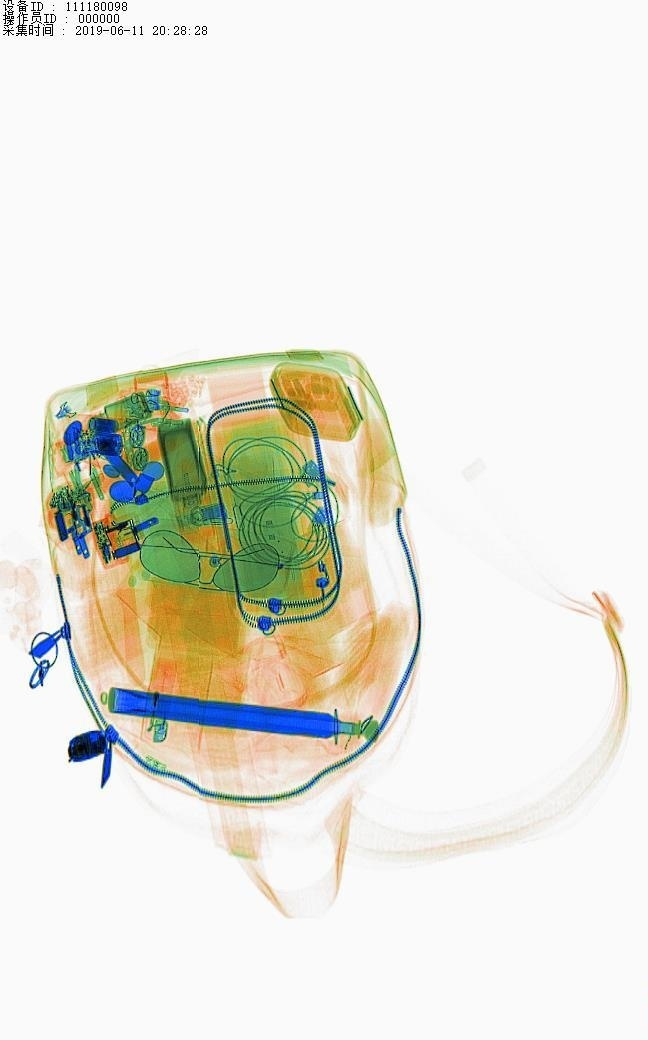NonmetallicFire: (136, 620, 202, 771)
